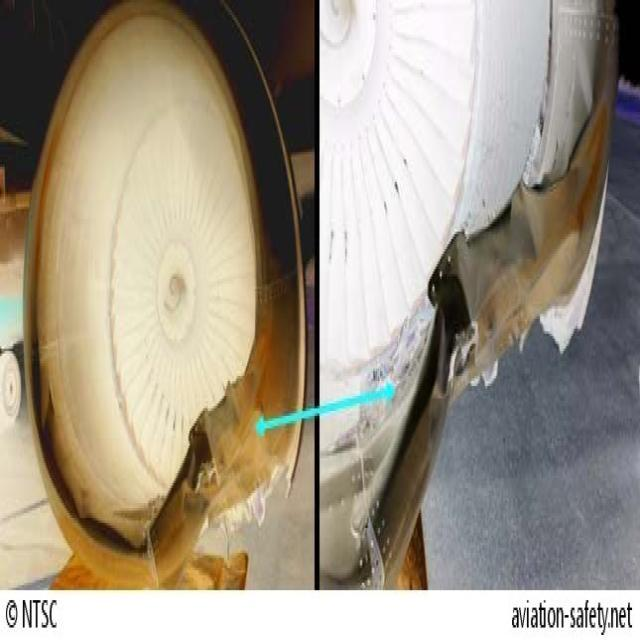dent: (446, 248, 478, 335), (520, 191, 542, 258)
